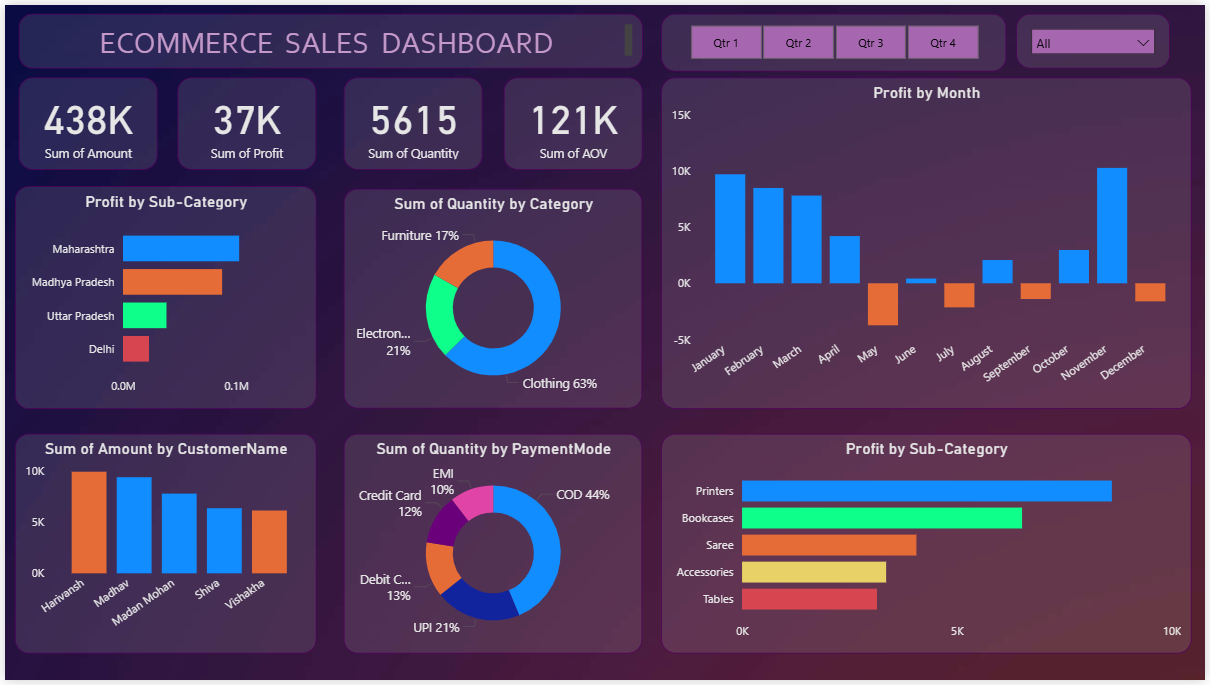

The page's visual inventory and layout, read from the dashboard file:
{"tool":"powerbi","page":{"name":"ECOMMERCE  SALES  DASHBOARD","canvas":[1280,720],"ordinal":0},"visuals":[{"type":"columnChart","title":"Profit by Month","fields":{"Y":["Sum(Details.Profit)"],"Category":["Orders.Order Date.Variation.Date Hierarchy.Month"]},"box":[700,77.3,565.3,353.3],"z":0},{"type":"barChart","title":"Profit by Sub-Category","fields":{"Category":["Details.Sub-Category"],"Y":["Sum(Details.Profit)"]},"box":[700,457.3,565.3,234.7],"z":1000},{"type":"donutChart","fields":{"Y":["Sum(Details.Quantity)"],"Category":["Details.PaymentMode"]},"box":[361.3,457.3,318.7,234.7],"z":2000},{"type":"donutChart","fields":{"Category":["Details.Category"],"Y":["Sum(Details.Quantity)"]},"box":[361.3,196,318.7,234.7],"z":3000},{"type":"card","fields":{"Values":["Sum(Details.Amount)"]},"box":[14.7,77.3,148,98.7],"z":4000},{"type":"card","fields":{"Values":["Sum(Details.Profit)"]},"box":[184,77.3,148,98.7],"z":5000},{"type":"card","fields":{"Values":["Sum(Details.AOV)"]},"box":[532,77.3,148,98.7],"z":6000},{"type":"card","fields":{"Values":["Sum(Details.Quantity)"]},"box":[361.3,77.3,148,98.7],"z":7000},{"type":"textbox","box":[14.7,9.3,665.3,58.7],"z":8000},{"type":"barChart","title":"Profit by Sub-Category","fields":{"Category":["Orders.State"],"Y":["Sum(Details.Amount)"]},"box":[10.7,193.3,321.3,237.3],"z":9000},{"type":"columnChart","fields":{"Category":["Orders.CustomerName"],"Y":["Sum(Details.Amount)"]},"box":[10.7,457.3,321.3,234.7],"z":10000},{"type":"slicer","fields":{"Values":["Orders.State"]},"box":[1078.7,9.3,164,58.7],"z":11000},{"type":"slicer","fields":{"Values":["Orders.Order Date.Variation.Date Hierarchy.Quarter"]},"box":[700,9.3,368,61.3],"z":12000}]}

Visuals, with their boxes in screenshot pixels (x1, y1, x2, y2), scaled from the page's 1280x720 canvas onto the 1210x685 screenshot:
"Profit by Month" columnChart: 662 74 1196 410
"Profit by Sub-Category" barChart: 662 435 1196 658
donutChart - Sum(Details.Quantity) x Details.PaymentMode: 342 435 643 658
donutChart - Details.Category x Sum(Details.Quantity): 342 186 643 410
card - Sum(Details.Amount): 14 74 154 167
card - Sum(Details.Profit): 174 74 314 167
card - Sum(Details.AOV): 503 74 643 167
card - Sum(Details.Quantity): 342 74 481 167
textbox: 14 9 643 65
"Profit by Sub-Category" barChart: 10 184 314 410
columnChart - Orders.CustomerName x Sum(Details.Amount): 10 435 314 658
slicer - Orders.State: 1020 9 1175 65
slicer - Orders.Order Date.Variation.Date Hierarchy.Quarter: 662 9 1010 67
